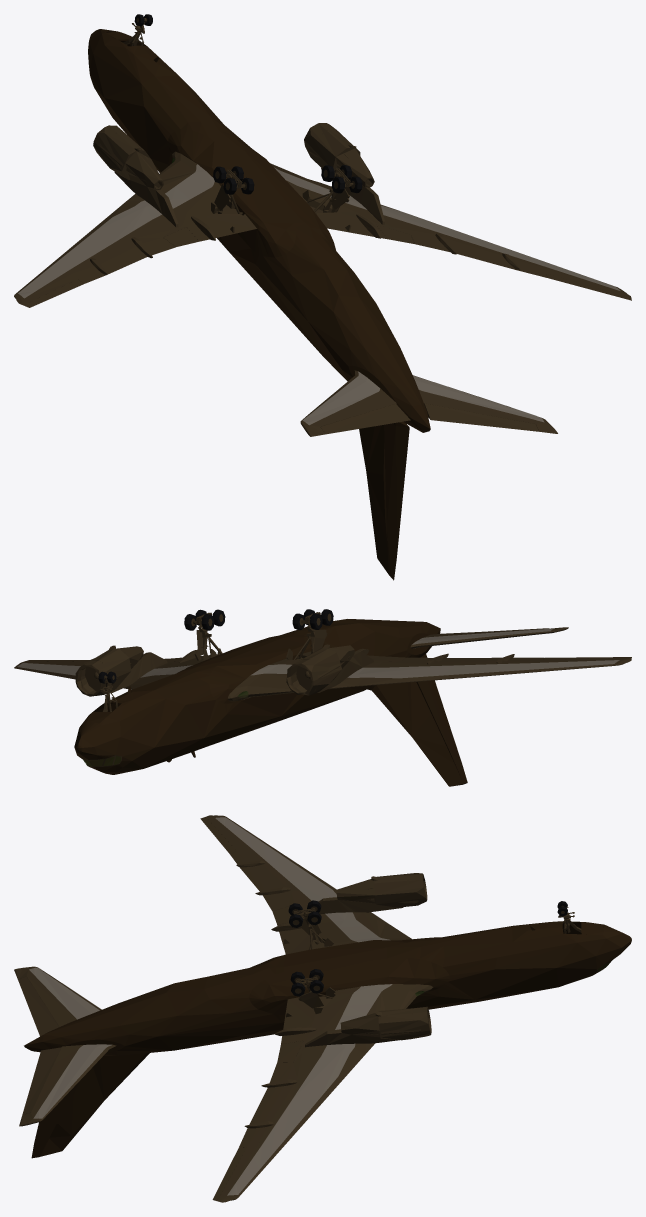
3 views of the same model, one above another, from view 1: azimuth 30°, elevation 25°; view 2: azimuth 150°, elevation 25°; view 3: azimuth 270°, elevation 25° (orthographic). The views are drawn at different scales.
Parts seen in each view (by area): view 1: 767-ala_iz; view 2: 767-ala_iz; view 3: 767-ala_iz.
Part boxes in pixels (x1,y1,x2,y2): 767-ala_iz: (14,14,631,580); 767-ala_iz: (14,609,631,786); 767-ala_iz: (14,815,631,1202).
Size of the model in its own units: 2.12 by 1.07 by 2.14.
